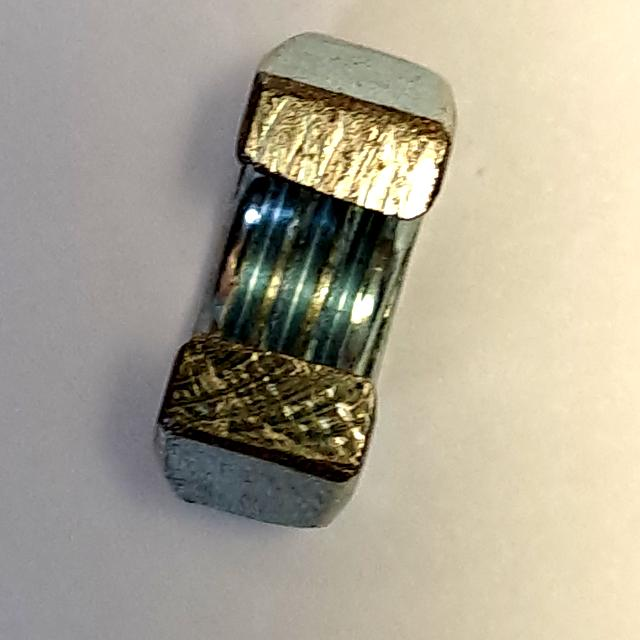Side-Fracture: (134, 17, 469, 545)
